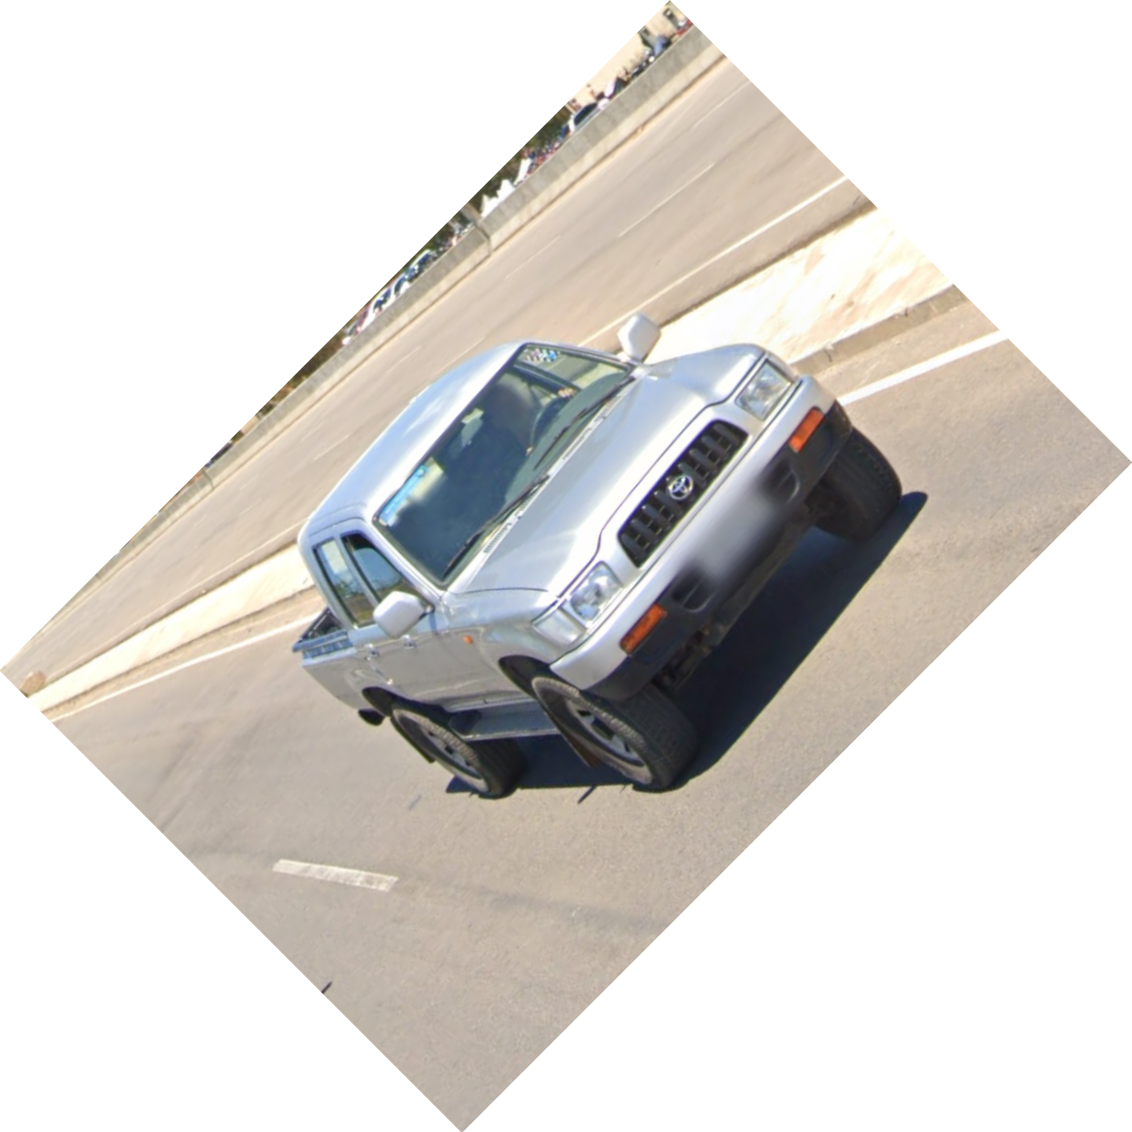car: (288, 313, 906, 800)
